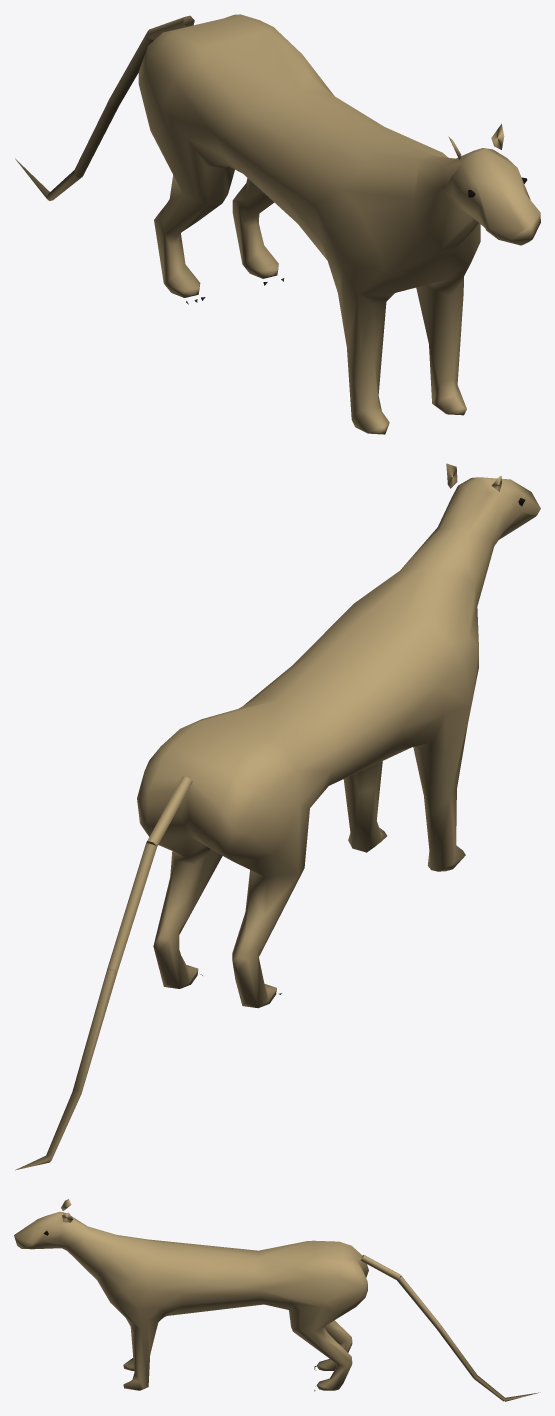
File: leopard.glb
The picture shows the model from 3 angles, top to bottom: view 1: azimuth 30°, elevation 25°; view 2: azimuth 150°, elevation 25°; view 3: azimuth 270°, elevation 25°; orthographic projection. The views are drawn at different scales.
Parts seen in each view (by area): view 1: lack; view 2: lack; view 3: lack.
Boxes of the visible parts, left/top/right/bottom form: lack: left=15, top=14, right=540, bottom=434; lack: left=15, top=463, right=540, bottom=1170; lack: left=14, top=1199, right=538, bottom=1401.
Size of the model in its own units: 0.3632 by 0.9471 by 2.31.
